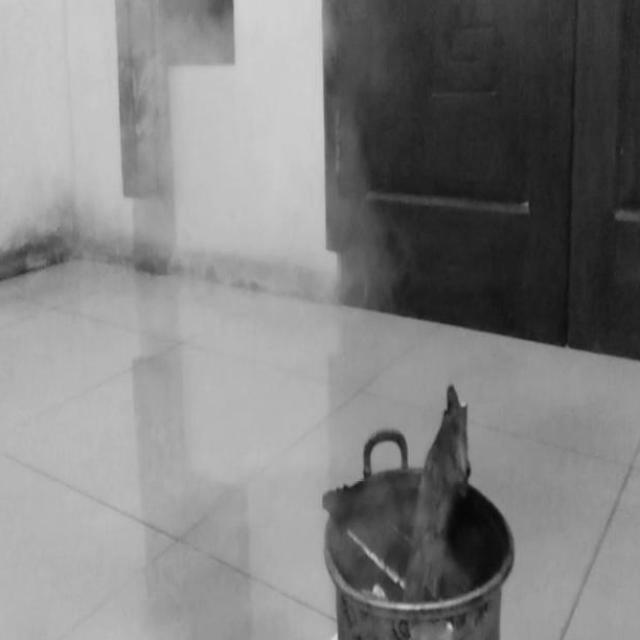fire: (104, 7, 382, 338)
